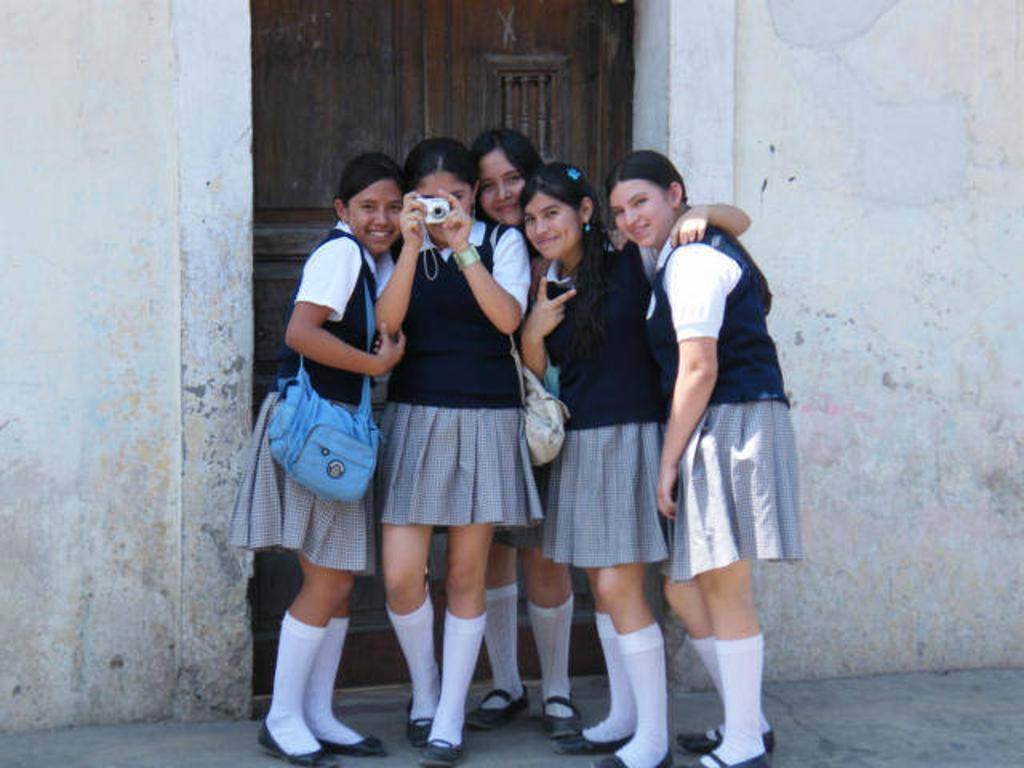face: (410, 172, 476, 248), (610, 178, 672, 246), (348, 178, 406, 248), (478, 150, 532, 224), (522, 194, 574, 264)
